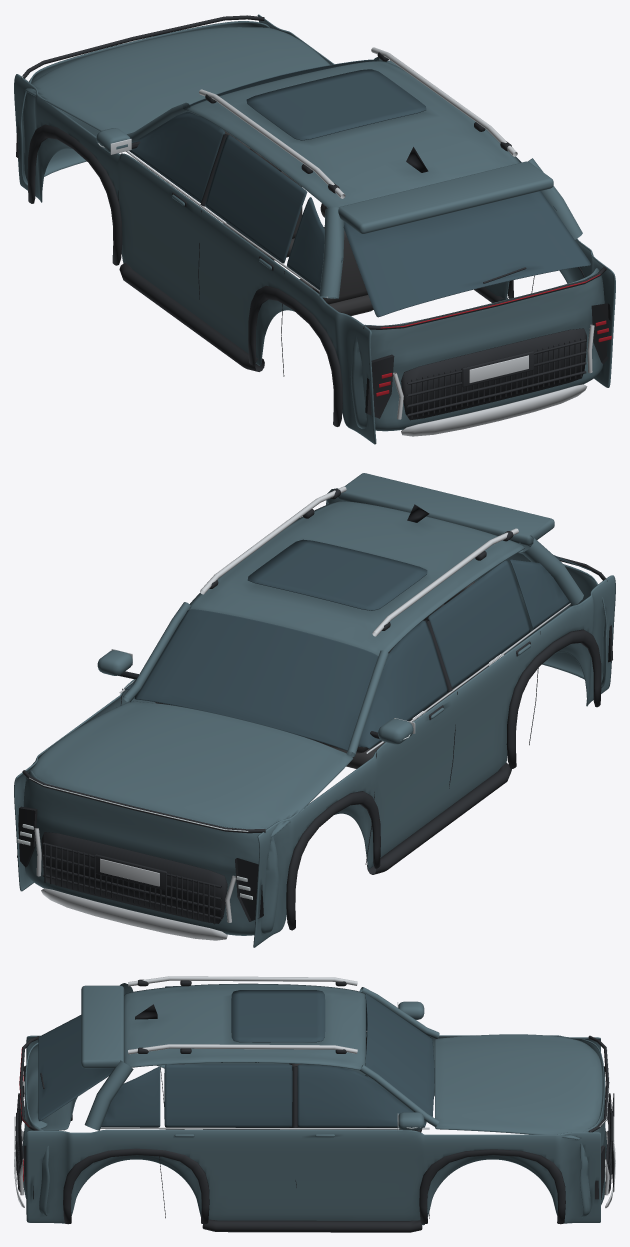
File: kona-sx2-body.glb
3 renders of one model, top to bottom at view 1: azimuth 30°, elevation 25°; view 2: azimuth 150°, elevation 25°; view 3: azimuth 270°, elevation 25°, orthographic. The views are drawn at different scales.
Parts seen in each view (by area): view 1: body, glass, trim, roof, hood, interior, light; view 2: body, glass, trim, hood, roof, interior, light; view 3: body, glass, roof, hood, trim.
Boxes of the visible parts, box(x1,y1,x2,y2) form: body: box(14, 14, 615, 444); glass: box(110, 59, 590, 317); trim: box(16, 15, 610, 436); roof: box(185, 61, 553, 233); hood: box(25, 27, 329, 134); interior: box(223, 130, 373, 315); light: box(22, 76, 611, 396); body: box(14, 488, 615, 947); glass: box(111, 500, 591, 750); trim: box(17, 486, 612, 940); hood: box(25, 701, 353, 837); roof: box(189, 473, 554, 656); interior: box(155, 581, 488, 768); light: box(17, 734, 410, 899); body: box(22, 983, 606, 1225); glass: box(38, 986, 434, 1129); roof: box(81, 983, 365, 1070); hood: box(435, 1034, 602, 1139); trim: box(14, 976, 615, 1232).
Bounding box in the file's own units: 2.14 × 1.47 × 4.49.
